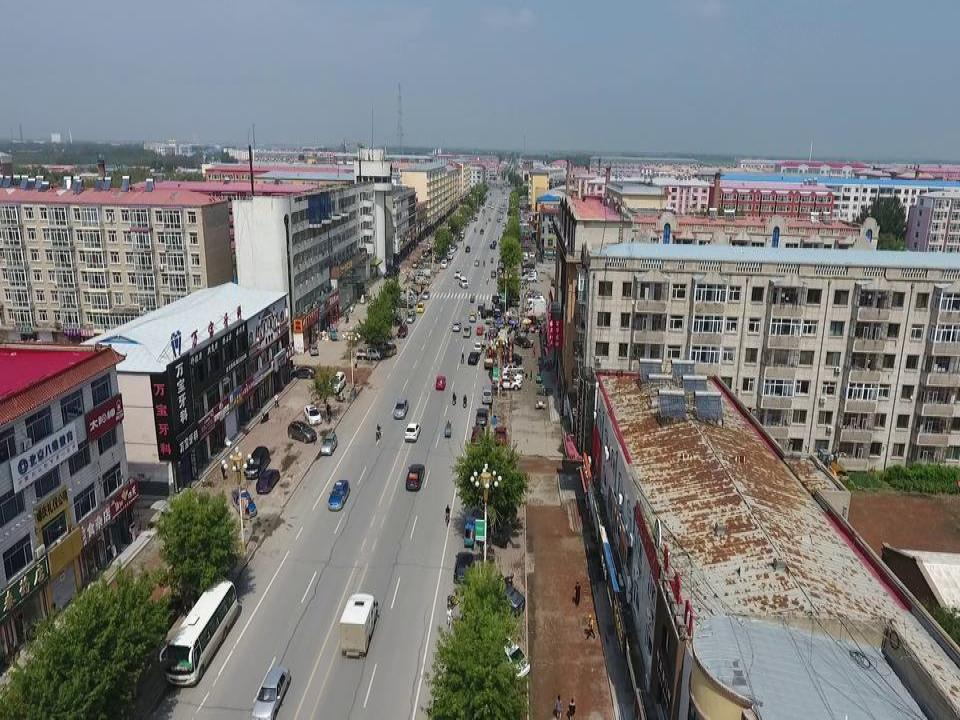bus: (158, 577, 238, 687)
car: (484, 624, 530, 679), (251, 665, 292, 720), (479, 584, 526, 617), (244, 444, 270, 479), (230, 489, 258, 518), (453, 550, 476, 582), (327, 479, 351, 509), (287, 420, 317, 444), (255, 469, 281, 495), (403, 462, 425, 490), (326, 369, 346, 395), (303, 403, 322, 425), (403, 421, 421, 444), (321, 431, 337, 456), (378, 307, 401, 324), (290, 365, 316, 380), (393, 399, 410, 420), (469, 425, 484, 447), (474, 406, 489, 425), (494, 426, 508, 445), (433, 374, 446, 393), (370, 338, 388, 350), (467, 351, 480, 365), (384, 343, 397, 357), (396, 323, 408, 337), (308, 343, 319, 357), (473, 340, 485, 351), (451, 322, 461, 334), (467, 310, 477, 322), (406, 312, 415, 324), (416, 303, 425, 312), (421, 291, 430, 300), (476, 325, 483, 336), (452, 270, 461, 278)
truck: (356, 347, 380, 360)
van: (481, 389, 493, 404), (462, 324, 472, 337), (459, 276, 469, 288), (478, 300, 485, 311)
